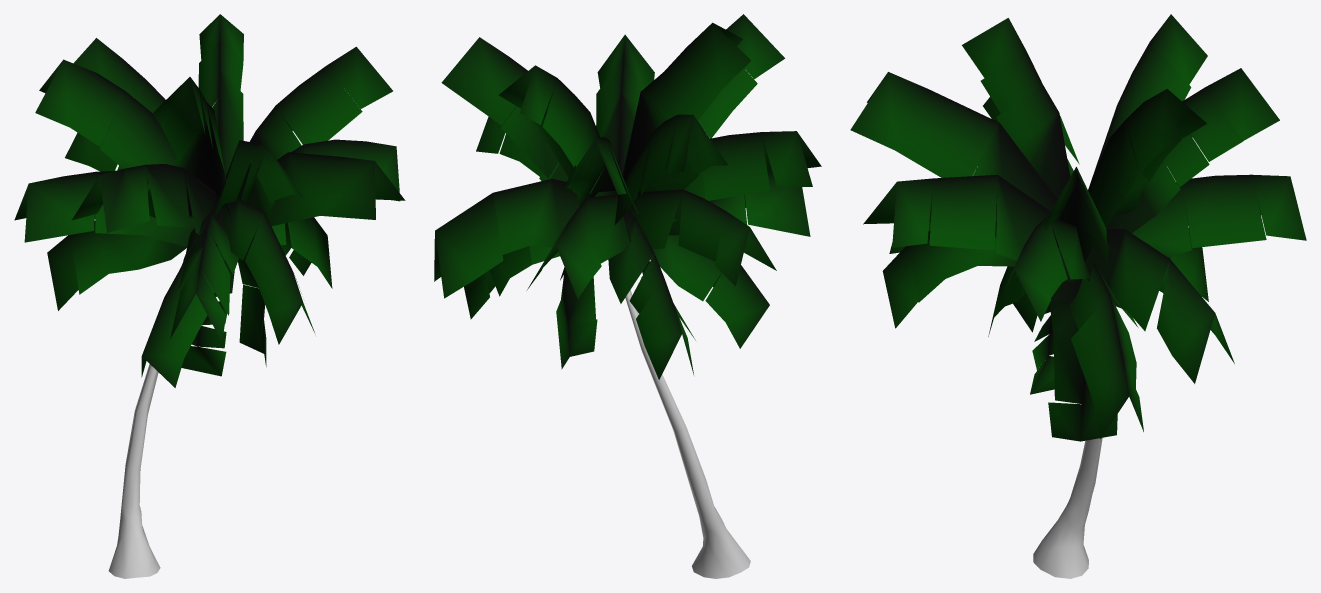
File: CoconutPalmTree01_afsTREE_xlprl10_xef99_xmm_xlod02.fbx
The picture shows the model from 3 angles, left to right: view 1: azimuth 30°, elevation 25°; view 2: azimuth 150°, elevation 25°; view 3: azimuth 270°, elevation 25°; orthographic projection. The views are drawn at different scales.
Parts seen in each view (by area): view 1: branch_xw08_xt08_xlp05_xp02, branch_xw09_xt05_xlp05_xp07, branch_xw08_xt08_xlp05_xp09, branch_xw08_xt09_xlp06_xp06, branch_xw06_xt04_xlp03, branch_xw08_xt08_xlp06_xp10, branch_xw05_xt06_xlp04_xp04, branch_xw10_xt10_xlp08, branch_xw09_xt09_xlp05_xp07, branch_xw06_xt05_xlp04, trunk_xw08_xt00_xlp00, branch_xw05_xt06_xlp06_xp04 (+7 smaller); view 2: branch_xw07_xt06_xlp06_xp10, branch_xw09_xt09_xlp05_xp07, branch_xw08_xt08_xlp06_xp10, branch_xw08_xt08_xlp05_xp09, branch_xw09_xt05_xlp05_xp07, branch_xw06_xt04_xlp03, branch_xw08_xt08_xlp05_xp02, branch_xw10_xt10_xlp08, trunk_xw08_xt00_xlp00, branch_xw05_xt06_xlp06_xp04, branch_xw06_xt07_xlp04, branch_xw08_xt09_xlp06_xp06 (+6 smaller); view 3: branch_xw07_xt06_xlp04_xp05, branch_xw08_xt09_xlp06_xp06, branch_xw06_xt07_xlp04, branch_xw07_xt06_xlp06_xp10, branch_xw09_xt09_xlp05_xp07, branch_xw08_xt08_xlp05_xp10.001, branch_xw10_xt10_xlp08, branch_xw07_xt06_xlp03_xp09, branch_xw05_xt07_xlp03_xp03, branch_xw08_xt08_xlp05_xp02, branch_xw05_xt06_xlp04_xp04, branch_xw08_xt08_xlp05 (+5 smaller).
Boxes of the visible parts, bbox=[...] form: branch_xw08_xt08_xlp05_xp02: bbox=[35, 59, 218, 218]; branch_xw09_xt05_xlp05_xp07: bbox=[249, 46, 392, 248]; branch_xw08_xt08_xlp05_xp09: bbox=[71, 164, 217, 242]; branch_xw08_xt09_xlp06_xp06: bbox=[216, 152, 405, 246]; branch_xw06_xt04_xlp03: bbox=[47, 221, 186, 310]; branch_xw08_xt08_xlp06_xp10: bbox=[14, 170, 194, 246]; branch_xw05_xt06_xlp04_xp04: bbox=[221, 199, 314, 344]; branch_xw10_xt10_xlp08: bbox=[198, 14, 243, 176]; branch_xw09_xt09_xlp05_xp07: bbox=[152, 77, 231, 220]; branch_xw06_xt05_xlp04: bbox=[170, 198, 238, 341]; trunk_xw08_xt00_xlp00: bbox=[108, 364, 160, 578]; branch_xw05_xt06_xlp06_xp04: bbox=[141, 235, 224, 387]; branch_xw07_xt06_xlp06_xp10: bbox=[434, 179, 590, 298]; branch_xw09_xt09_xlp05_xp07: bbox=[622, 22, 751, 180]; branch_xw08_xt08_xlp06_xp10: bbox=[626, 189, 776, 285]; branch_xw08_xt08_xlp05_xp09: bbox=[673, 131, 821, 222]; branch_xw09_xt05_xlp05_xp07: bbox=[441, 37, 568, 181]; branch_xw06_xt04_xlp03: bbox=[608, 209, 695, 379]; branch_xw08_xt08_xlp05_xp02: bbox=[614, 114, 727, 225]; branch_xw10_xt10_xlp08: bbox=[498, 65, 617, 196]; trunk_xw08_xt00_xlp00: bbox=[625, 290, 750, 578]; branch_xw05_xt06_xlp06_xp04: bbox=[652, 235, 769, 348]; branch_xw06_xt07_xlp04: bbox=[527, 194, 629, 299]; branch_xw08_xt09_xlp06_xp06: bbox=[596, 34, 654, 174]; branch_xw07_xt06_xlp04_xp05: bbox=[850, 72, 1057, 210]; branch_xw08_xt09_xlp06_xp06: bbox=[863, 174, 1075, 282]; branch_xw06_xt07_xlp04: bbox=[1132, 174, 1306, 257]; branch_xw07_xt06_xlp06_xp10: bbox=[1084, 228, 1234, 383]; branch_xw09_xt09_xlp05_xp07: bbox=[962, 18, 1070, 199]; branch_xw08_xt08_xlp05_xp10.001: bbox=[1106, 68, 1279, 233]; branch_xw10_xt10_xlp08: bbox=[1076, 89, 1206, 261]; branch_xw07_xt06_xlp03_xp09: bbox=[1069, 263, 1143, 439]; branch_xw05_xt07_xlp03_xp03: bbox=[1048, 279, 1117, 441]; branch_xw08_xt08_xlp05_xp02: bbox=[1088, 14, 1207, 189]; branch_xw05_xt06_xlp04_xp04: bbox=[882, 230, 1016, 328]; branch_xw08_xt08_xlp05: bbox=[994, 216, 1089, 321].
Size of what is drawn, in the model's own units: 10.81 by 11.44 by 15.65.
